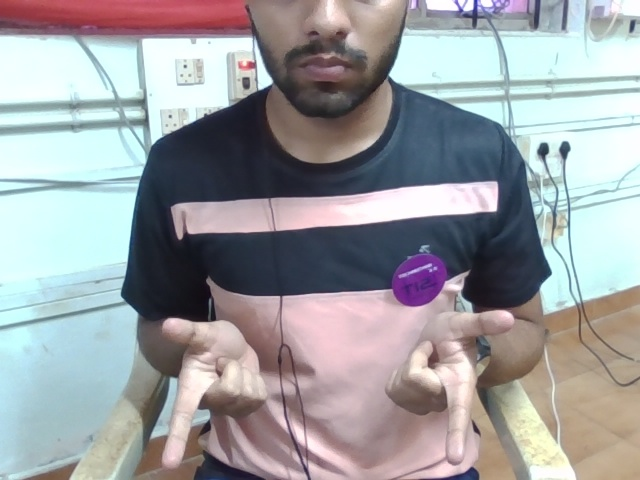go: (149, 285, 520, 480)
